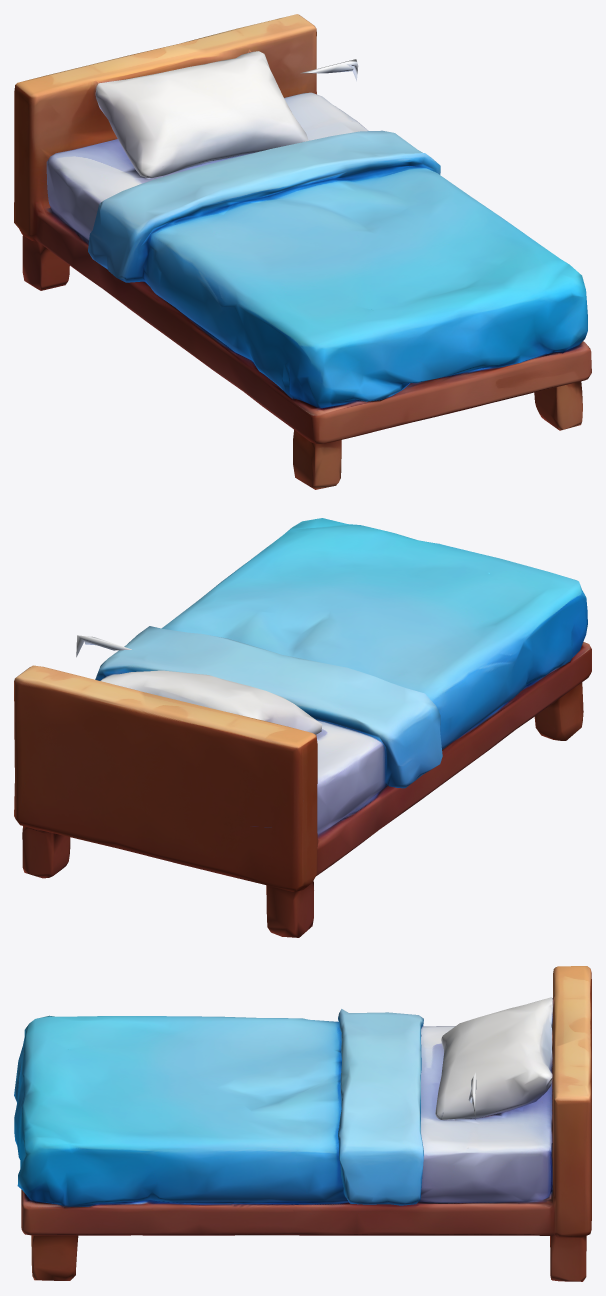
The model's file is prop_bed_single_tripo_20261113.glb.
3 renders of one model, top to bottom at view 1: azimuth 30°, elevation 25°; view 2: azimuth 150°, elevation 25°; view 3: azimuth 270°, elevation 25°, orthographic. The views are drawn at different scales.
Visible parts, largest first — view 1: tripo_node_7e826a33-2bda-4460-b626-9a9111e6ab25; view 2: tripo_node_7e826a33-2bda-4460-b626-9a9111e6ab25; view 3: tripo_node_7e826a33-2bda-4460-b626-9a9111e6ab25.
Boxes of the visible parts, x1,y1,x2,y2 form: tripo_node_7e826a33-2bda-4460-b626-9a9111e6ab25: [14, 14, 591, 489]; tripo_node_7e826a33-2bda-4460-b626-9a9111e6ab25: [14, 518, 591, 937]; tripo_node_7e826a33-2bda-4460-b626-9a9111e6ab25: [14, 966, 591, 1281].
Bounding box in the file's own units: 0.6161 × 0.3615 × 1.
1 material, 1 textured.
